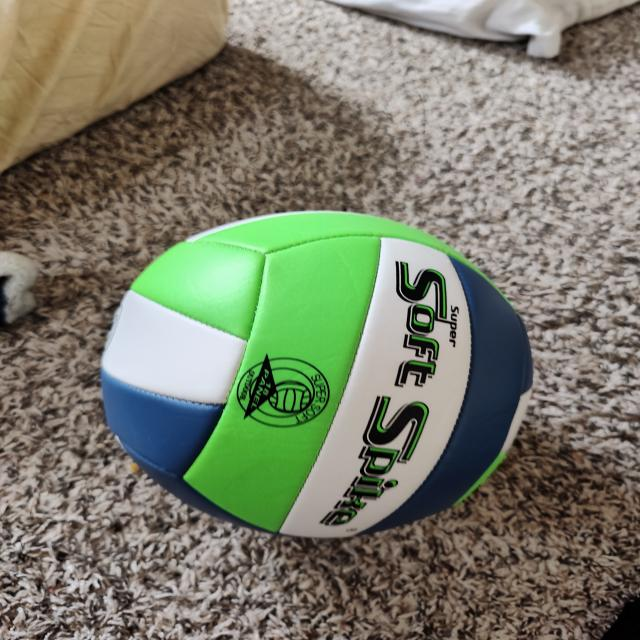ball: (106, 210, 532, 538)
